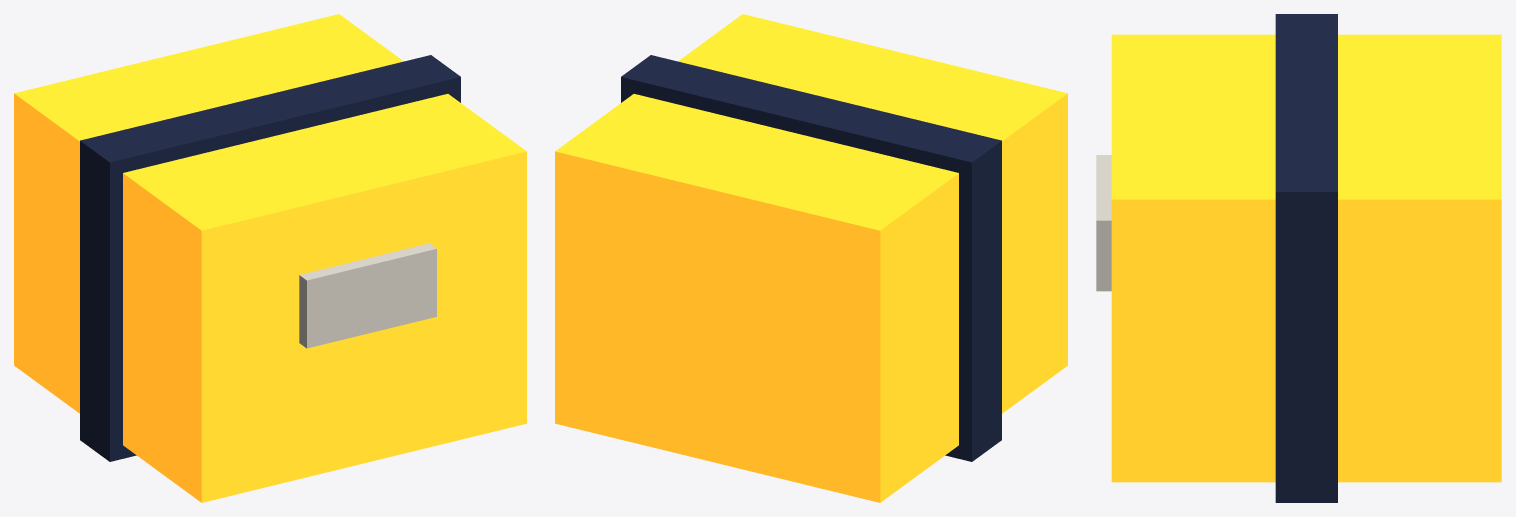
The model's file is stationpack-cargo-crate-small.glb.
The picture shows the model from 3 angles, left to right: view 1: azimuth 30°, elevation 25°; view 2: azimuth 150°, elevation 25°; view 3: azimuth 270°, elevation 25°; orthographic projection. The views are drawn at different scales.
Parts seen in each view (by area): view 1: cargo_crate_small; view 2: cargo_crate_small; view 3: cargo_crate_small.
Boxes of the visible parts, x1,y1,x2,y2 form: cargo_crate_small: [14, 14, 526, 502]; cargo_crate_small: [555, 14, 1067, 502]; cargo_crate_small: [1096, 14, 1501, 502].
Bounding box in the file's own units: 0.54 × 0.44 × 0.52.
